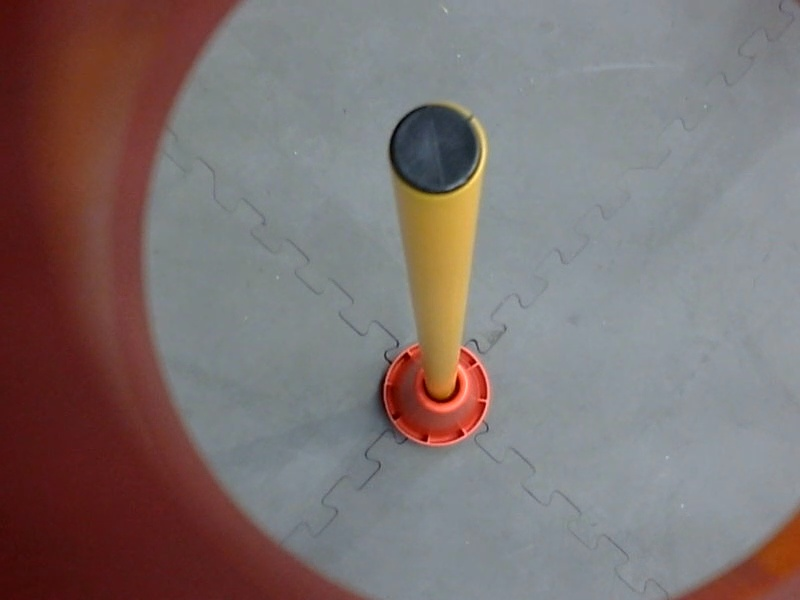tip: (378, 90, 493, 205)
